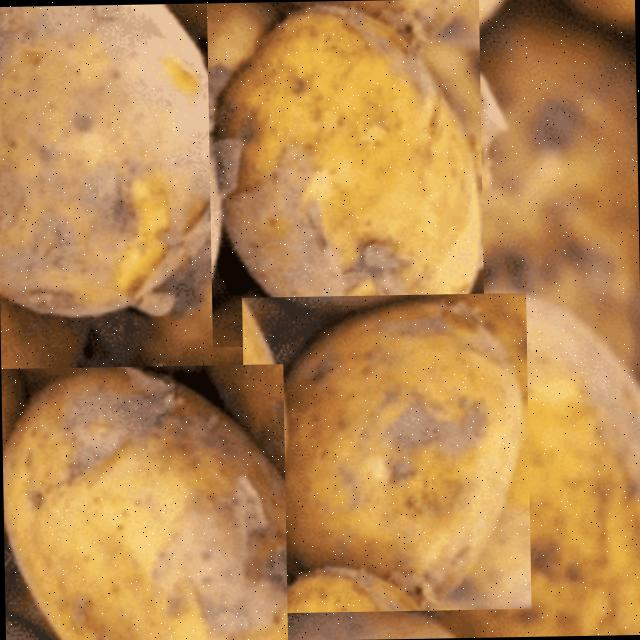Diseased-fungal potato: (206, 0, 484, 346), (242, 292, 531, 612), (0, 362, 287, 640), (0, 4, 223, 324)
